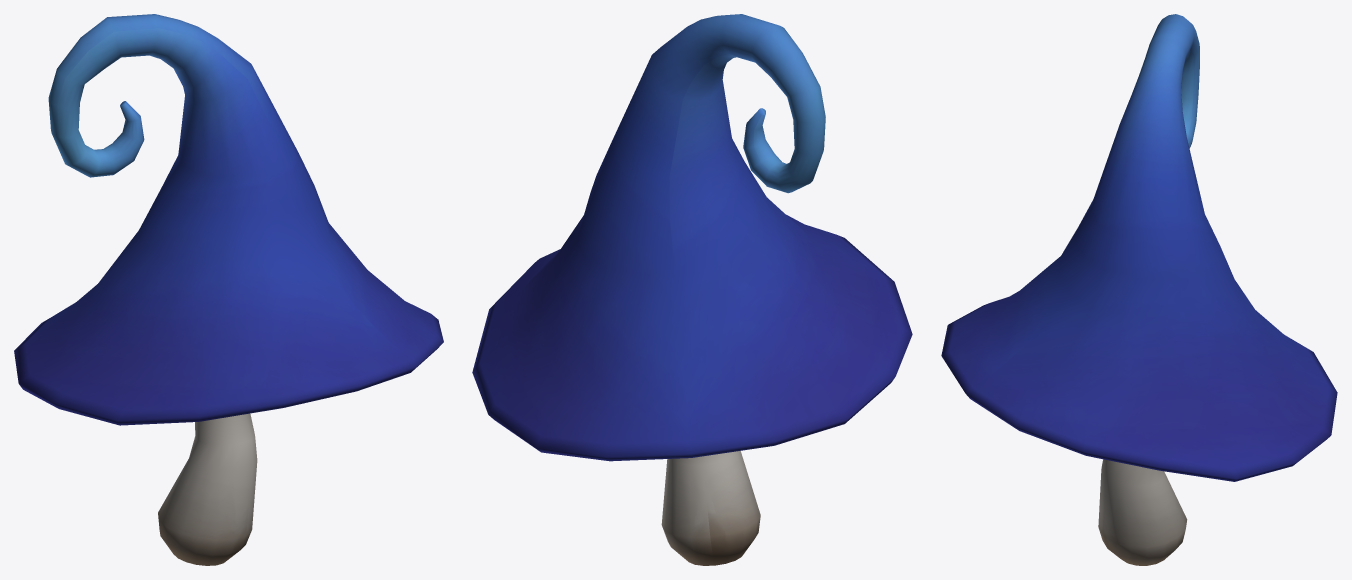
File: hattusieni.fbx
3 views of the same model, side by side, from view 1: azimuth 30°, elevation 25°; view 2: azimuth 150°, elevation 25°; view 3: azimuth 270°, elevation 25° (orthographic). The views are drawn at different scales.
Visible parts, largest first — view 1: hattusieni; view 2: hattusieni; view 3: hattusieni.
Part boxes in pixels (left/top/right/bottom): hattusieni: left=14, top=14, right=443, bottom=565; hattusieni: left=472, top=14, right=912, bottom=565; hattusieni: left=941, top=14, right=1337, bottom=565.
Bounding box in the file's own units: 167 × 236 × 167.
